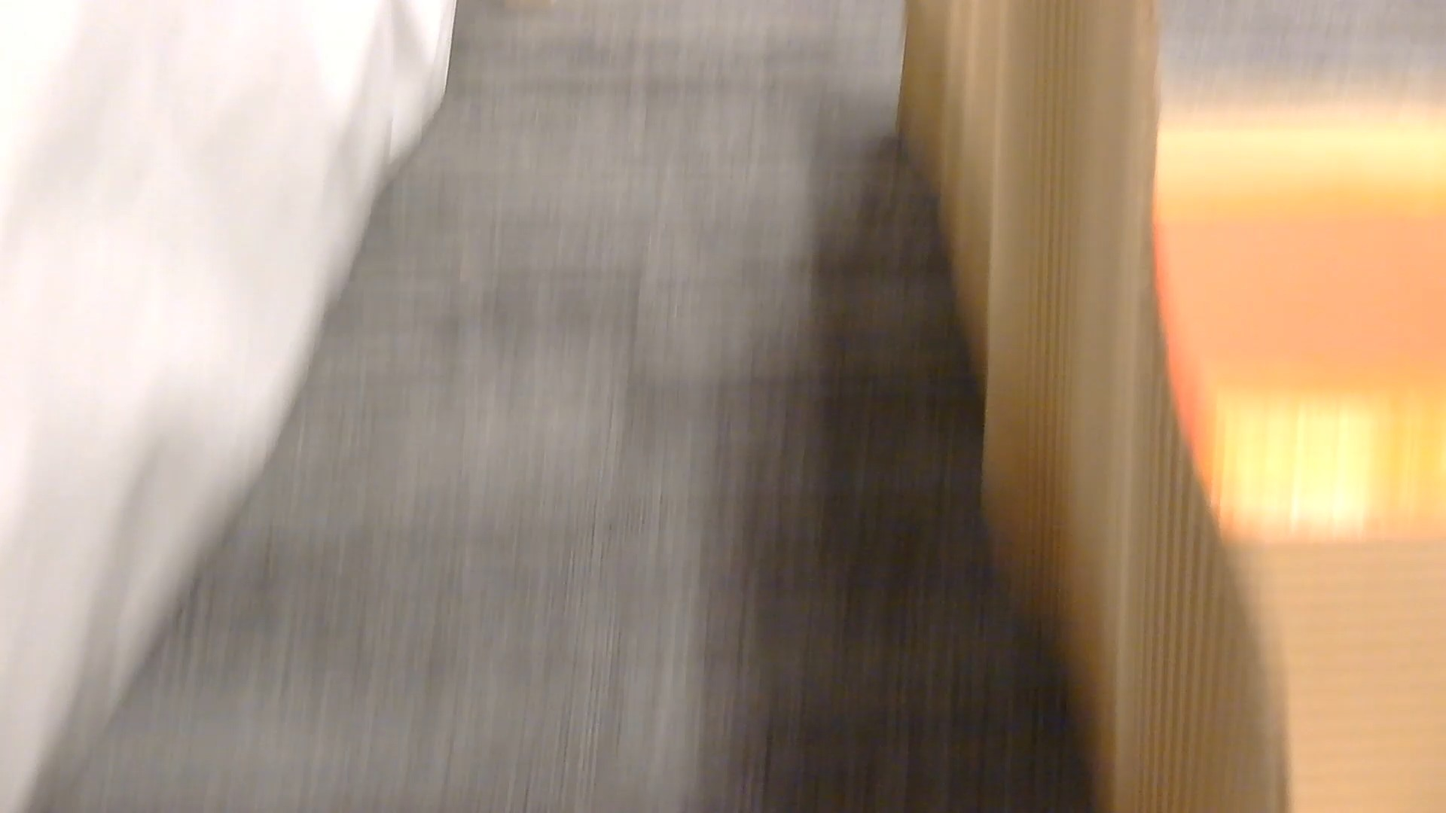Ramp: (901, 0, 1445, 812)
